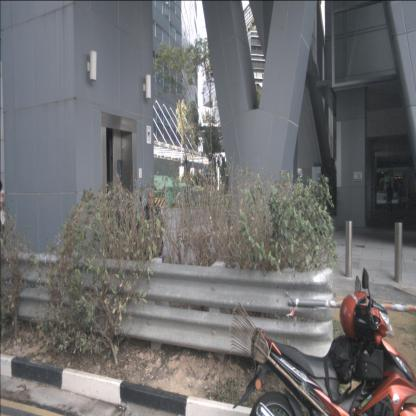human-pedestrian-adult: (135, 190, 164, 272), (0, 180, 8, 253), (386, 182, 394, 210), (384, 181, 389, 209)
vehicle-motorcycle: (232, 265, 415, 415)
